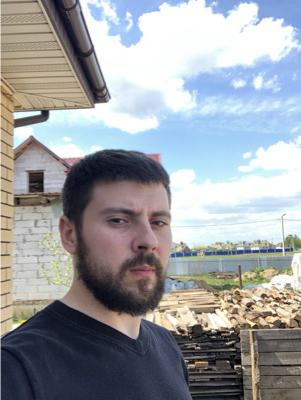without_mask: (89, 197, 172, 317)
